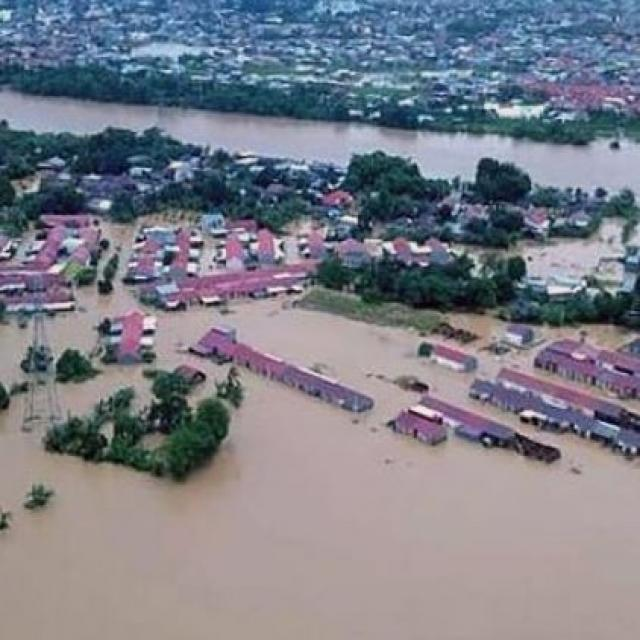flood: (0, 297, 640, 640), (0, 90, 640, 192), (46, 279, 141, 358), (514, 222, 621, 279), (56, 360, 150, 416), (0, 320, 30, 384), (101, 222, 139, 270)
house: (194, 324, 376, 416), (472, 374, 640, 459), (396, 398, 560, 471), (540, 338, 640, 404), (100, 310, 158, 364), (417, 338, 481, 373)
